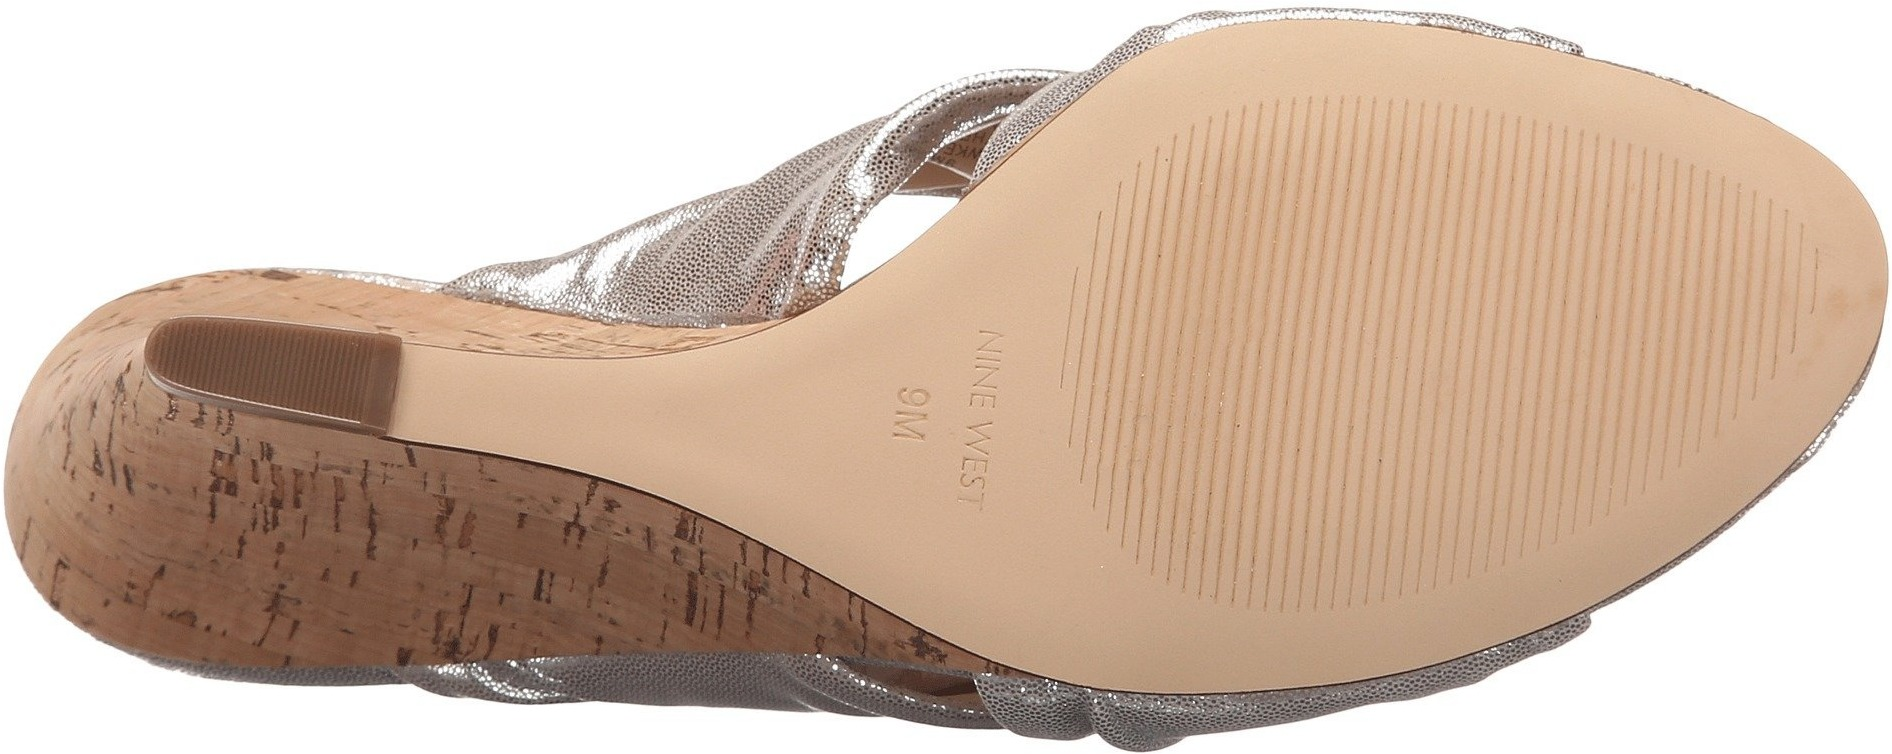other: (1292, 327, 1526, 544), (1068, 223, 1285, 440), (1538, 181, 1747, 404), (1292, 121, 1500, 321), (1139, 448, 1290, 589), (279, 329, 370, 417), (187, 325, 263, 397)
text: (889, 382, 1014, 499), (960, 329, 1023, 386)
